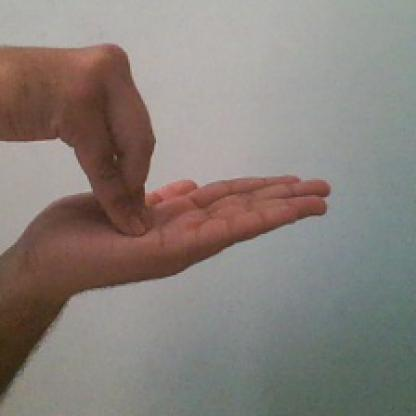Z: (0, 37, 342, 284)
